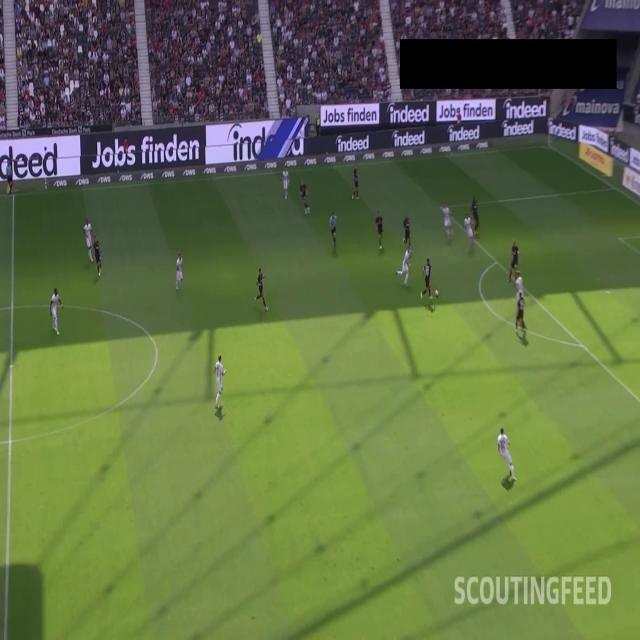ball: (434, 288, 440, 299)
player: (496, 428, 516, 484), (396, 245, 413, 291), (214, 351, 227, 411), (254, 265, 268, 313), (50, 286, 63, 336), (421, 256, 434, 304), (514, 291, 526, 336), (509, 238, 521, 282), (298, 178, 312, 215), (463, 214, 476, 253), (84, 217, 95, 262), (442, 202, 454, 242), (514, 270, 524, 316), (470, 195, 480, 236), (402, 212, 413, 248), (175, 252, 185, 291), (376, 210, 384, 252), (351, 166, 360, 202), (282, 166, 291, 202), (94, 233, 101, 279)
